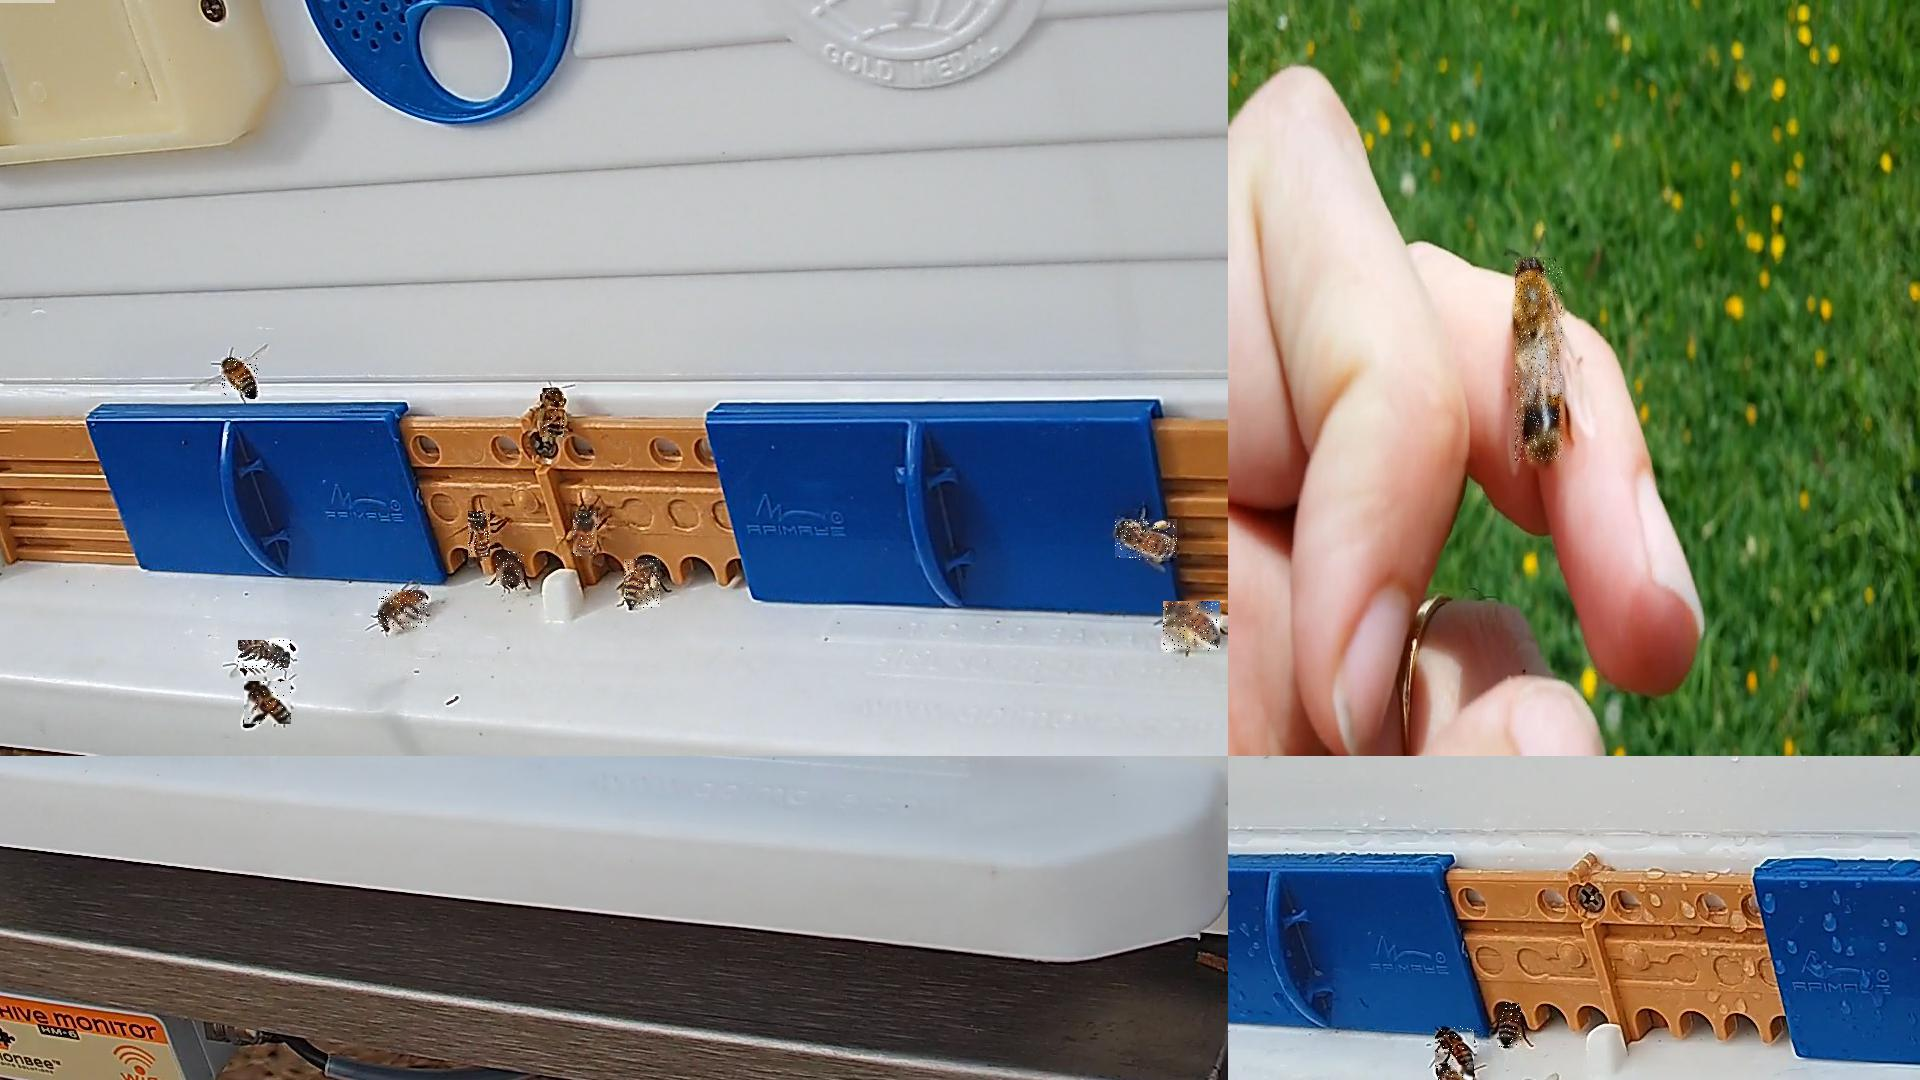bee: (244, 681, 292, 725), (379, 591, 429, 630), (1435, 1027, 1475, 1074), (239, 641, 295, 673), (221, 358, 259, 398), (540, 389, 565, 442), (573, 511, 598, 557), (468, 512, 491, 562), (1499, 1004, 1522, 1049), (496, 551, 525, 586), (1438, 1068, 1475, 1079)
drone: (1515, 258, 1563, 463)
pollenbee: (1163, 602, 1221, 653), (1115, 520, 1178, 562), (624, 560, 661, 611)
